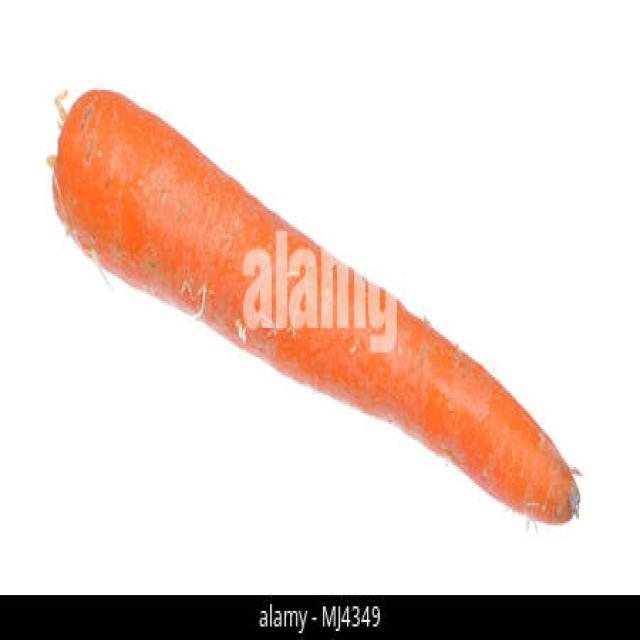carrot: (49, 90, 580, 525)
